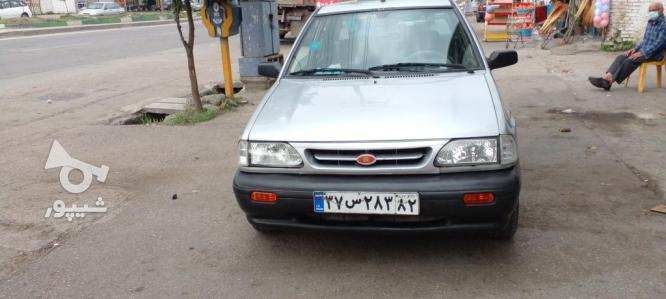car: (311, 192, 417, 217)
